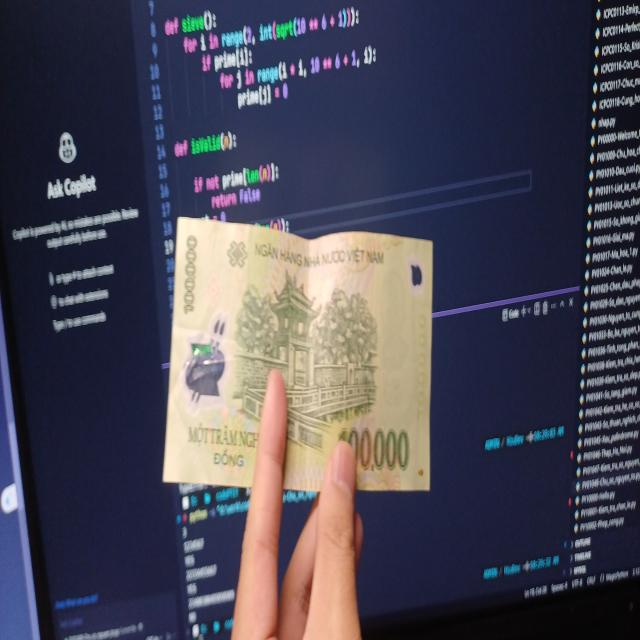100 000 VND: (158, 210, 435, 497)
